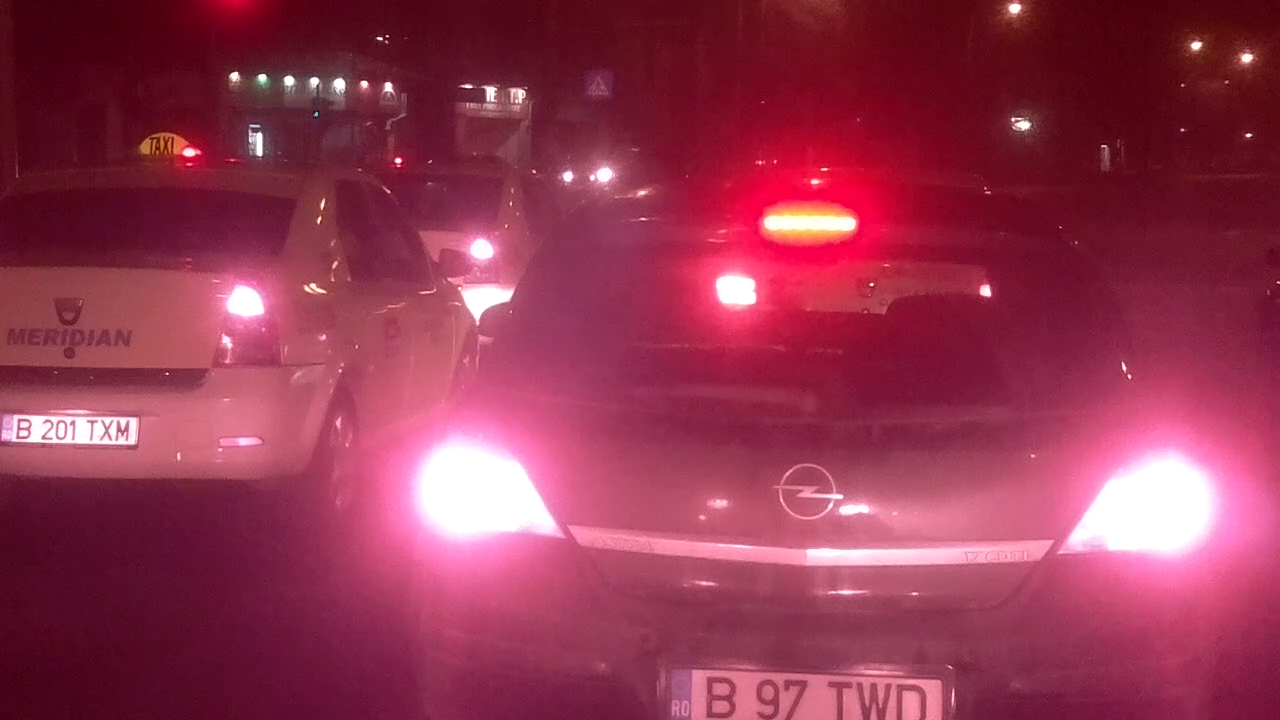license-plate: (0, 410, 144, 452)
